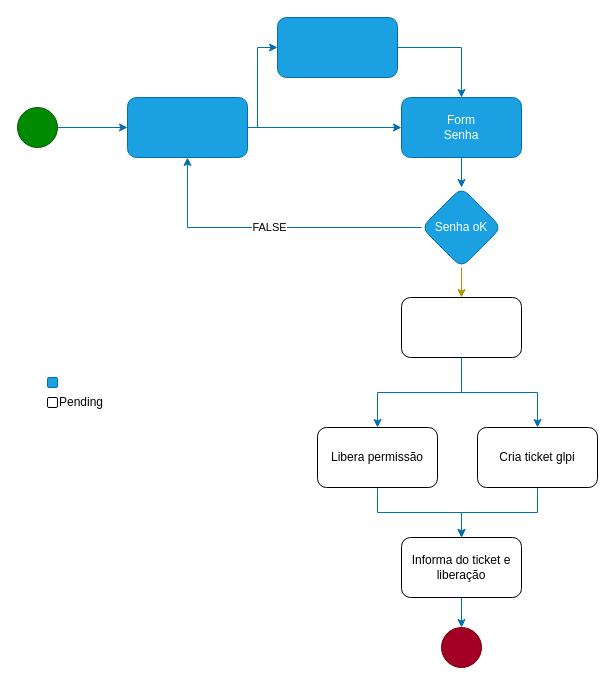
Some shapes in this 615 by 685 pixel diagram are drawn without their labels. Here are the shapes that lost their labels. From the top down, the box of each, then its label:
(276, 16, 398, 78): Código para Rocket
(126, 96, 248, 158): Form Usuário
(400, 296, 522, 358): Carrega tabelas
